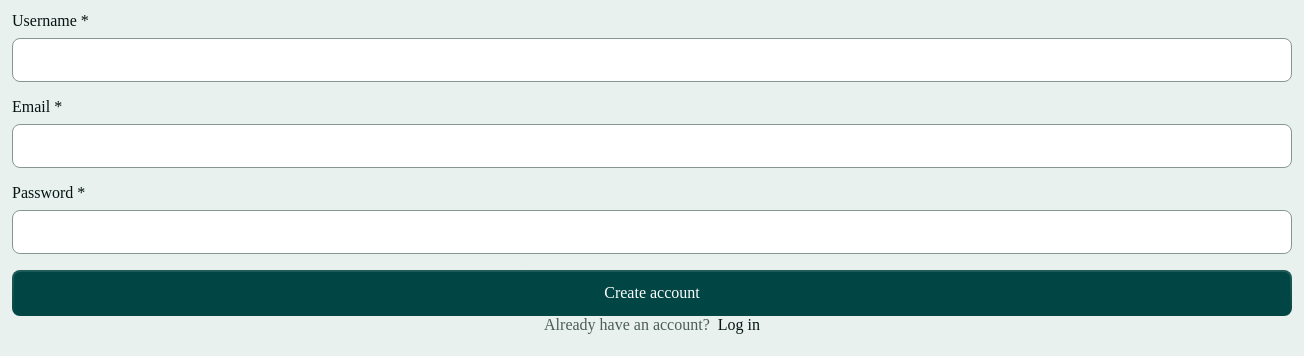
Test case: Sign up flow › shows pending state while submitting
Type "valid user" into the field labelled "Username *" at [652, 60], box [12,38,1292,82]
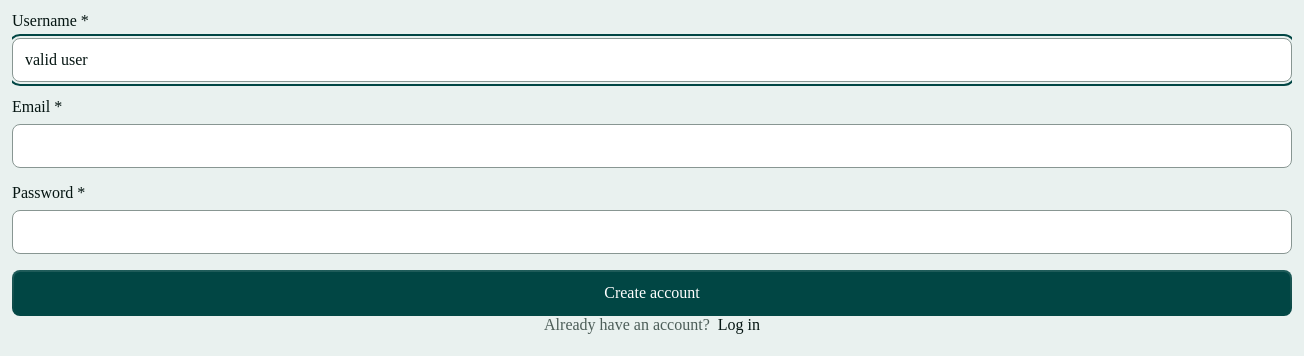
Type "valid@email.com" into the field labelled "Email *" at [652, 146], box [12,124,1292,168]
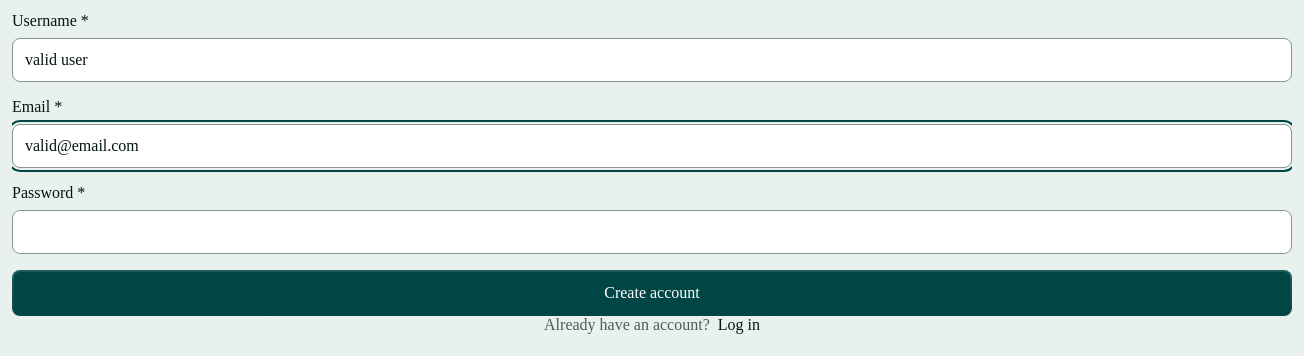
Type "ValidPassword123" into the password field labelled "Password *" at [652, 232], box [12,210,1292,254]
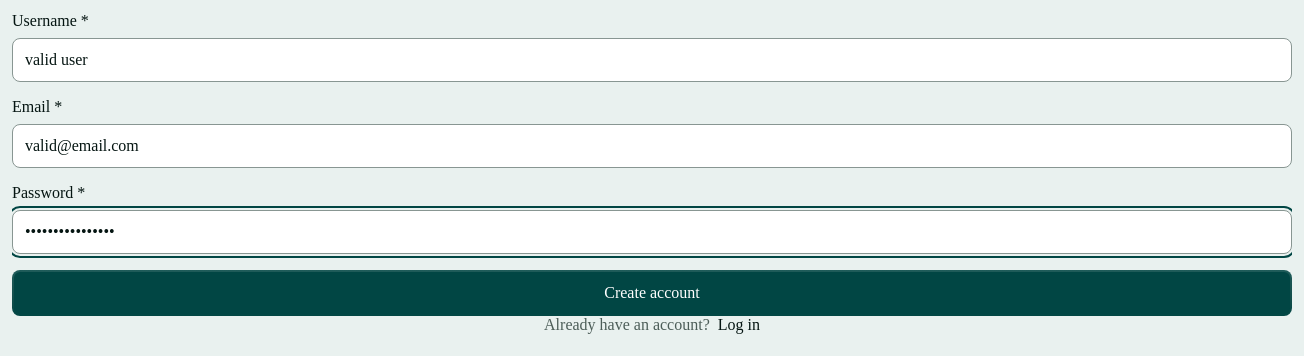
Click the button "Create account" at [652, 293], box [12,270,1292,316]
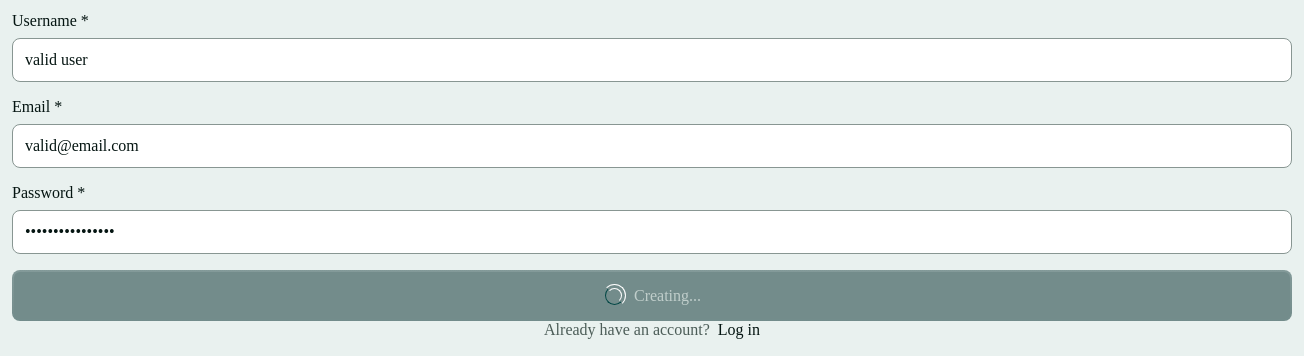
Check: the button named "create account" reads "Creating...", box [12,270,1292,321]
Check: the button named "create account" is disabled, box [12,270,1292,321]
